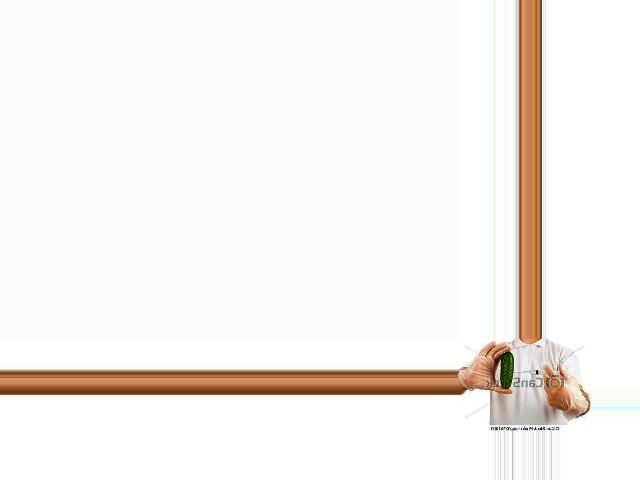cucumber: (499, 351, 512, 390)
